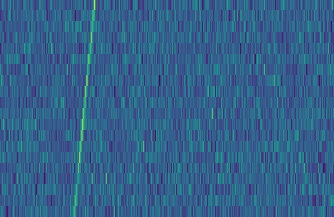signal: (68, 0, 98, 217)
